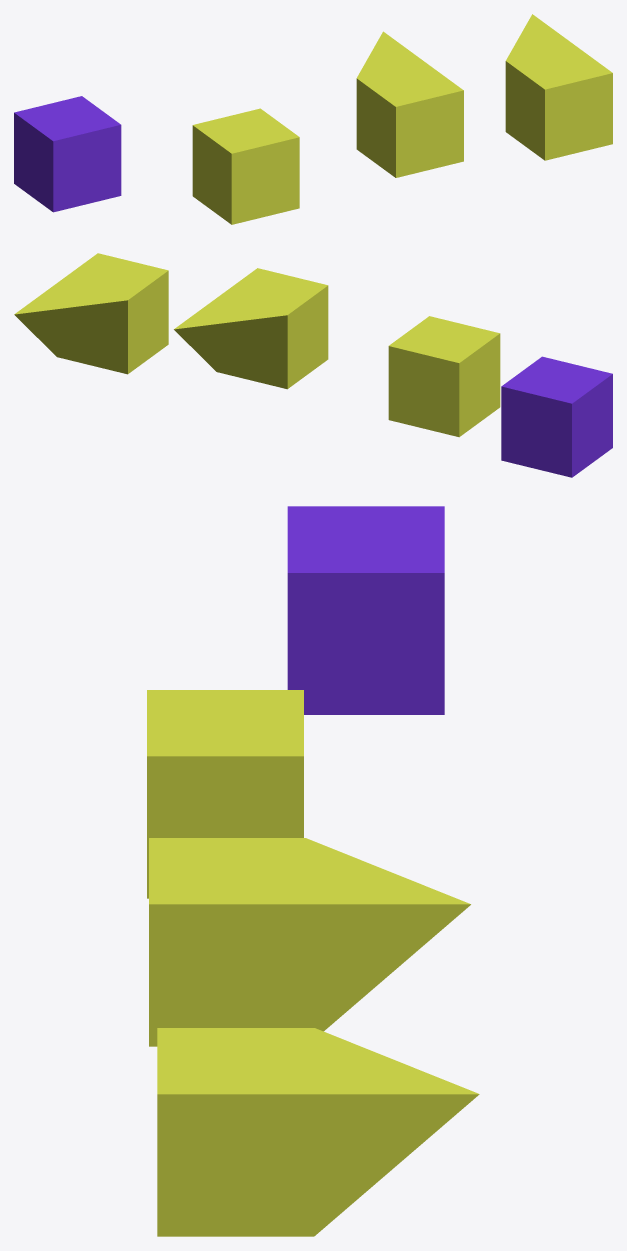
3 views of the same model, one above another, from view 1: azimuth 30°, elevation 25°; view 2: azimuth 150°, elevation 25°; view 3: azimuth 270°, elevation 25° (orthographic). The views are drawn at different scales.
Parts seen in each view (by area): view 1: 1, 1.ad, 1.tcv, 1.sd; view 2: 1.ad, 1, 1.sd, 1.tcv; view 3: 1, 1.ad, 1.tcv, 1.sd.
Boxes of the visible parts, x1,y1,x2,y2 form: 1: [505, 14, 612, 160]; 1.ad: [356, 31, 463, 177]; 1.tcv: [14, 96, 121, 212]; 1.sd: [192, 108, 299, 224]; 1.ad: [174, 268, 328, 389]; 1: [14, 253, 168, 374]; 1.sd: [388, 316, 500, 437]; 1.tcv: [501, 356, 612, 477]; 1: [157, 1028, 479, 1236]; 1.ad: [149, 838, 470, 1046]; 1.tcv: [287, 506, 444, 714]; 1.sd: [147, 690, 303, 898].
Bounding box in the file's own units: 7.75 × 1.51 × 2.12.
